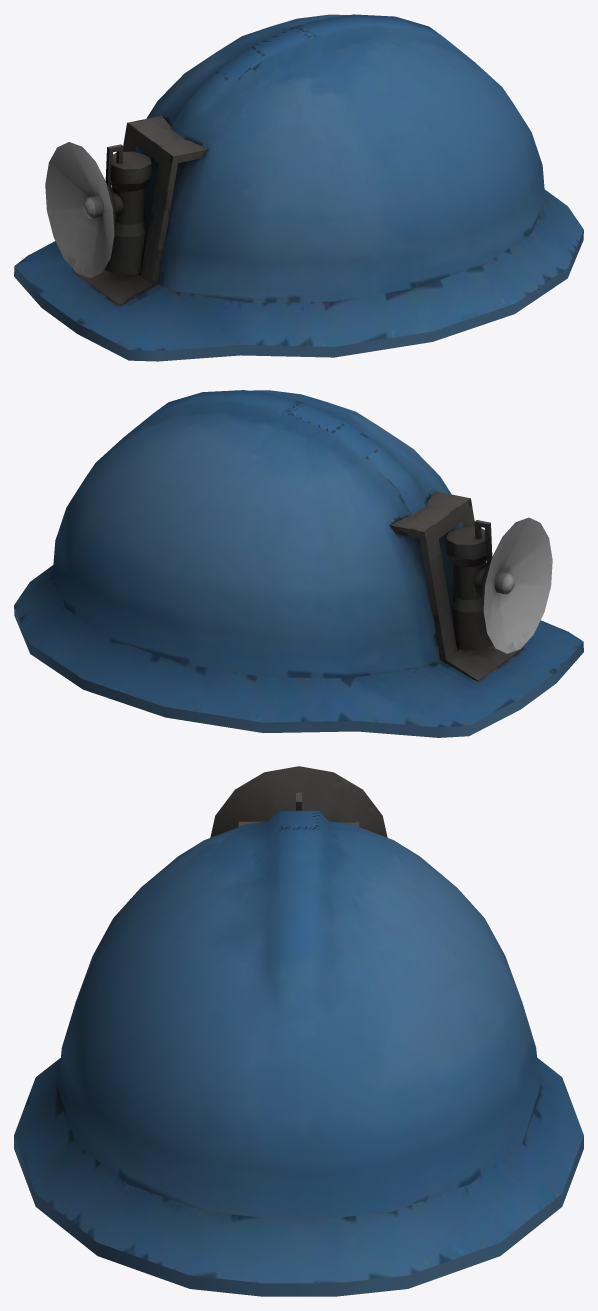
The picture shows the model from 3 angles, top to bottom: view 1: azimuth 30°, elevation 25°; view 2: azimuth 150°, elevation 25°; view 3: azimuth 270°, elevation 25°; orthographic projection. The views are drawn at different scales.
Parts seen in each view (by area): view 1: body0_model0_lod0_mesh0; view 2: body0_model0_lod0_mesh0; view 3: body0_model0_lod0_mesh0.
Boxes of the visible parts, box(x1,y1,x2,y2) form: body0_model0_lod0_mesh0: box(14, 14, 583, 361); body0_model0_lod0_mesh0: box(14, 390, 583, 737); body0_model0_lod0_mesh0: box(14, 766, 583, 1296).
Size of the model in its own units: 18.57 by 8.47 by 14.14.
Materials: 1 (1 with a texture image).
